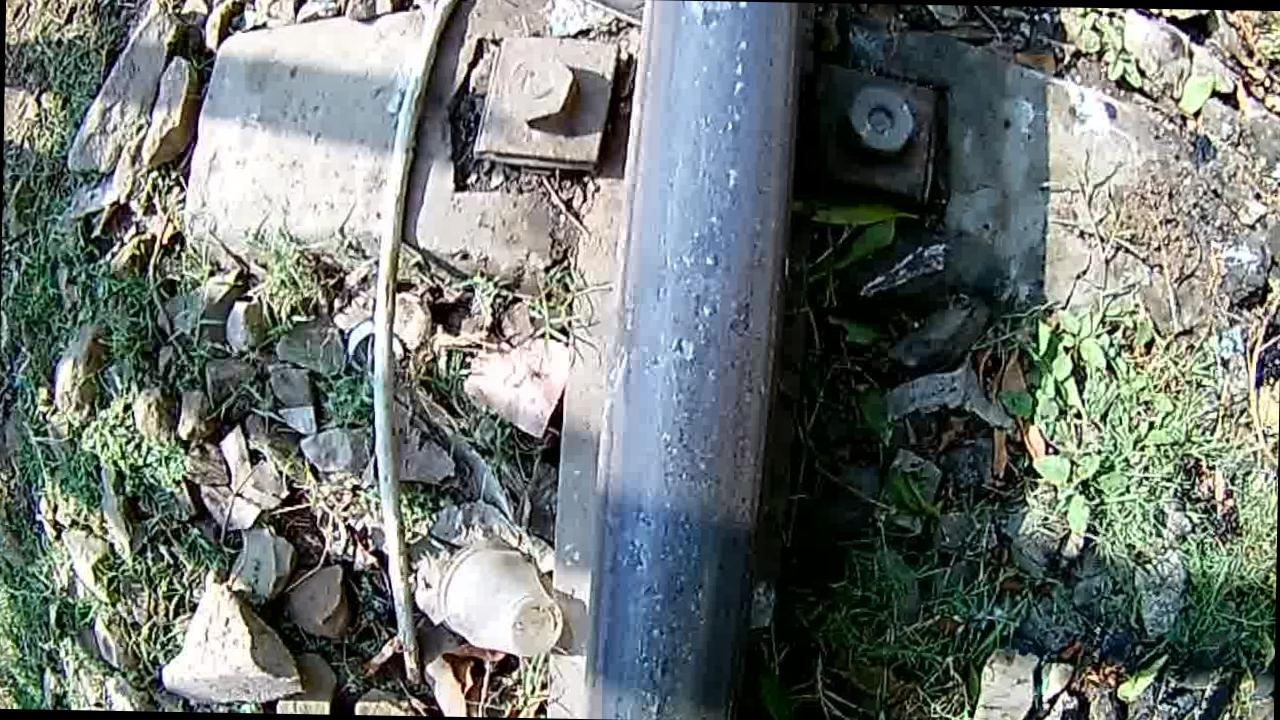clip_missing: (582, 3, 800, 720)
